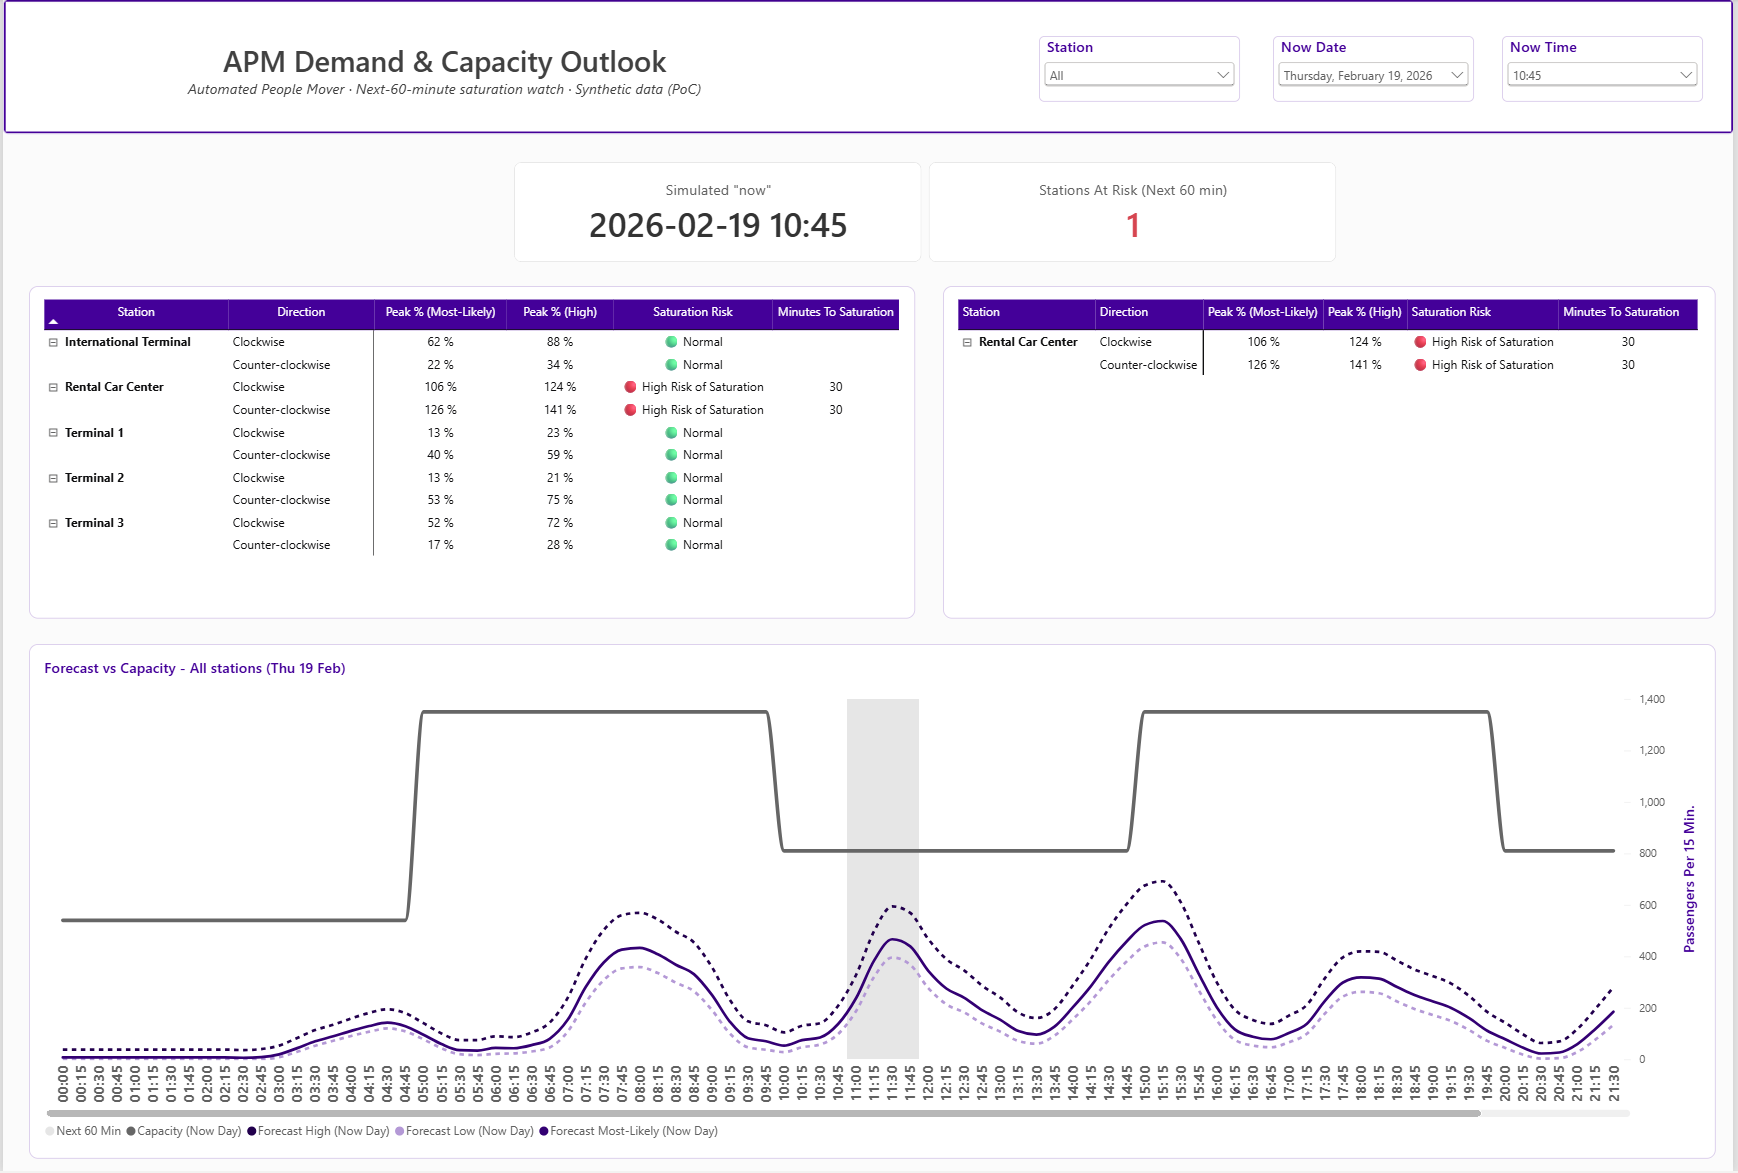

This screenshot's page, from the dashboard's own definition file:
{"tool":"powerbi","page":{"name":"Executive Overview","canvas":[1920,1300],"ordinal":0},"visuals":[{"type":"shape","box":[0,0,1920,150],"z":0},{"type":"cardVisual","fields":{"Data":["_Measures.Now Label","_Measures.Stations At Risk Next 60"]},"box":[567,181,912,111],"z":2000},{"type":"pivotTable","fields":{"Rows":["Dim_Station.Station_Name","Dim_Direction.Direction_Name"],"Values":["_Measures.Peak Utilization Next 60 (Most-Likely)","_Measures.Peak Utilization Next 60 (High)","_Measures.Saturation Risk Next 60","_Measures.Minutes To Saturation (High)"]},"box":[29,318,983,369],"z":3000},{"type":"pivotTable","fields":{"Rows":["Dim_Station.Station_Name","Dim_Direction.Direction_Name"],"Values":["_Measures.Peak Utilization Next 60 (Most-Likely)","_Measures.Peak Utilization Next 60 (High)","_Measures.Saturation Risk Next 60","_Measures.Minutes To Saturation (High)"]},"box":[1043,318,857,369],"z":4000},{"type":"lineClusteredColumnComboChart","fields":{"Category":["Dim_Time15.Time_Label"],"Y":["_Measures.Next 60 Window Marker"],"Y2":["_Measures.Capacity (Now Day)","_Measures.Forecast High (Now Day)","_Measures.Forecast Low (Now Day)","_Measures.Forecast Most-Likely (Now Day)"]},"box":[29,715,1871,571],"z":5000},{"type":"slicer","fields":{"Values":["Now Date.Now Date"]},"box":[1409,41,223,73],"z":6000},{"type":"slicer","fields":{"Values":["Now Time.Now Time"]},"box":[1663,41,223,73],"z":7000},{"type":"slicer","fields":{"Values":["Dim_Station.Station_Name"]},"box":[1149,41,223,73],"z":8000},{"type":"textbox","box":[28.9,28.9,922.2,97.8],"z":9000}]}

Visuals, with their boxes in screenshot pixels (x1, y1, x2, y2), scaled from the page's 1920x1300 canvas onto the 1738x1173 screenshot:
shape: crop(0, 0, 1737, 135)
cardVisual - _Measures.Now Label x _Measures.Stations At Risk Next 60: crop(513, 163, 1339, 263)
pivotTable - Dim_Station.Station_Name x Dim_Direction.Direction_Name: crop(26, 287, 916, 620)
pivotTable - Dim_Station.Station_Name x Dim_Direction.Direction_Name: crop(944, 287, 1720, 620)
lineClusteredColumnComboChart - Dim_Time15.Time_Label x _Measures.Next 60 Window Marker: crop(26, 645, 1720, 1160)
slicer - Now Date.Now Date: crop(1275, 37, 1477, 103)
slicer - Now Time.Now Time: crop(1505, 37, 1707, 103)
slicer - Dim_Station.Station_Name: crop(1040, 37, 1242, 103)
textbox: crop(26, 26, 861, 114)
